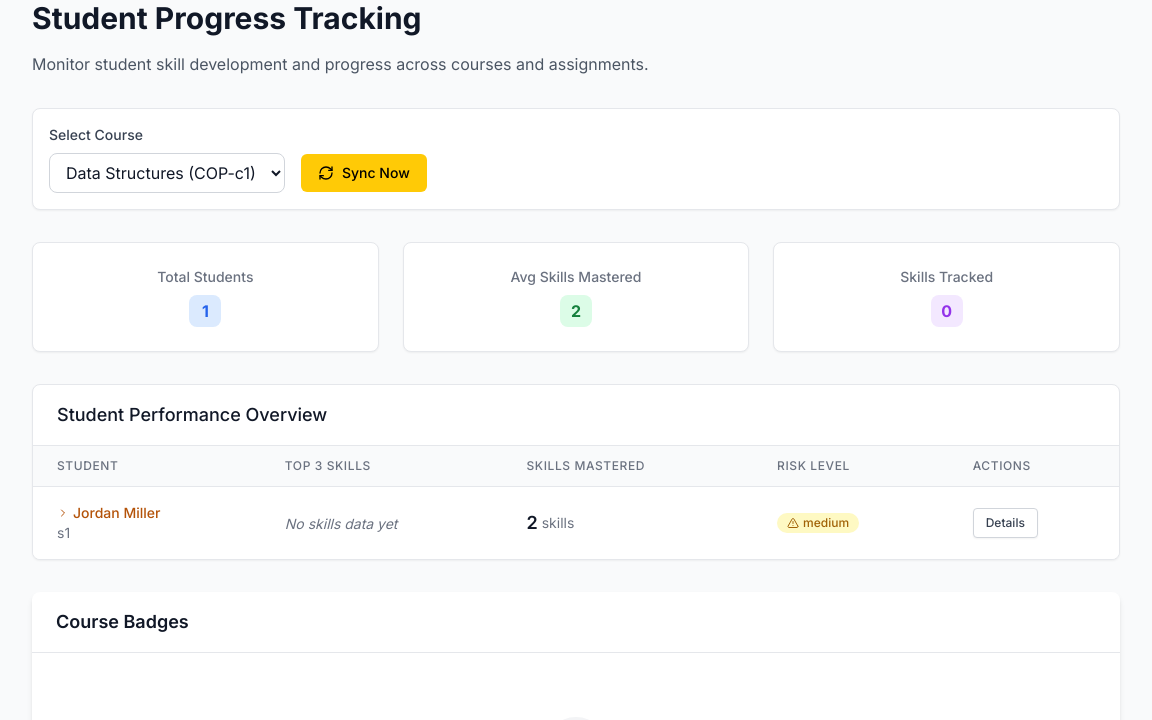
Scenario: closing the Details modal via its close button removes it
The width and height of the screenshot is (1152, 720).
Check: the button "Jordan Miller" is shown, box [57,503,160,523]
Click the button with aria-label "Details for Jordan Miller" at [1005, 523], box [973,508,1038,538]
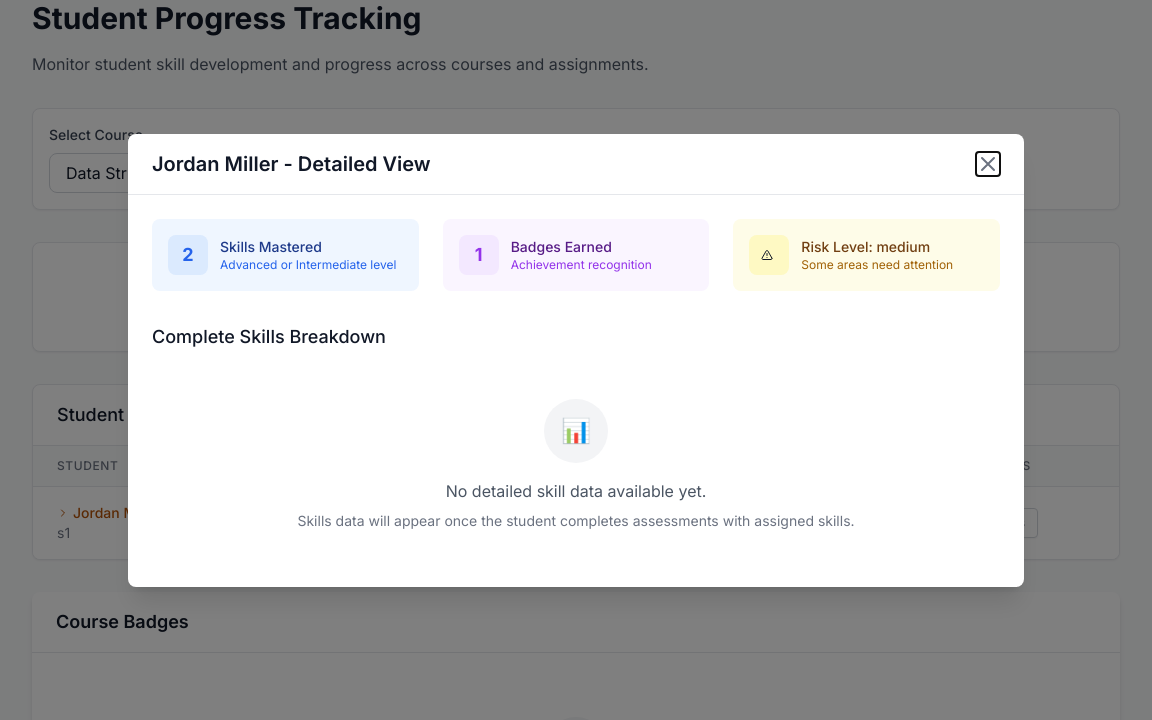
Check: the heading "Jordan Miller - Detailed View" is shown, box [152,150,431,178]
Click the button named "Close" at [988, 164], box [976,152,1000,176]
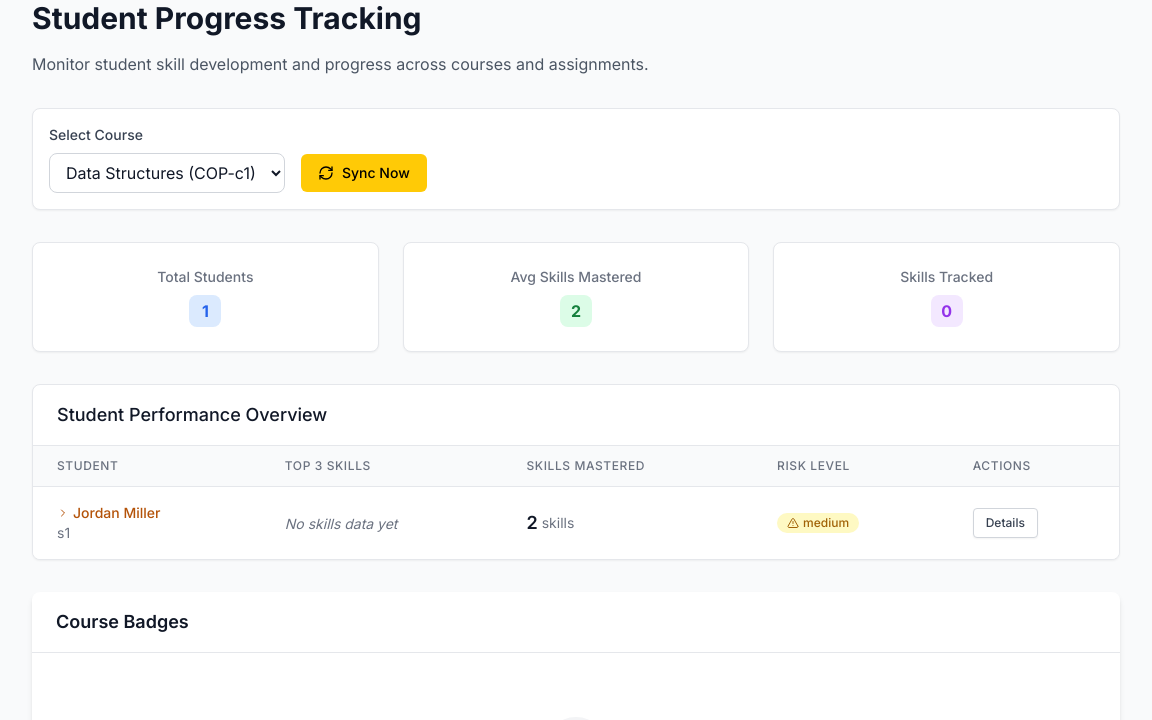
Check: the heading "Jordan Miller - Detailed View" is gone
